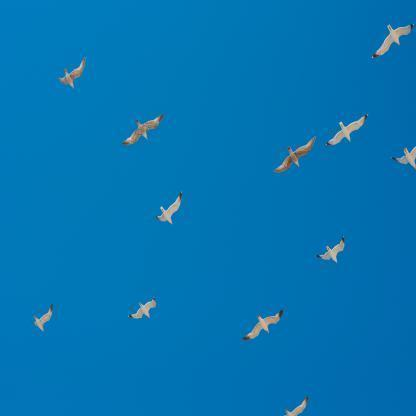bird: (369, 23, 415, 58), (275, 135, 316, 173), (325, 114, 368, 146), (122, 113, 163, 144), (242, 310, 283, 340), (58, 56, 86, 88), (315, 235, 345, 264), (156, 191, 182, 224), (128, 297, 157, 319), (391, 145, 416, 170), (33, 303, 53, 332), (284, 397, 307, 416)
